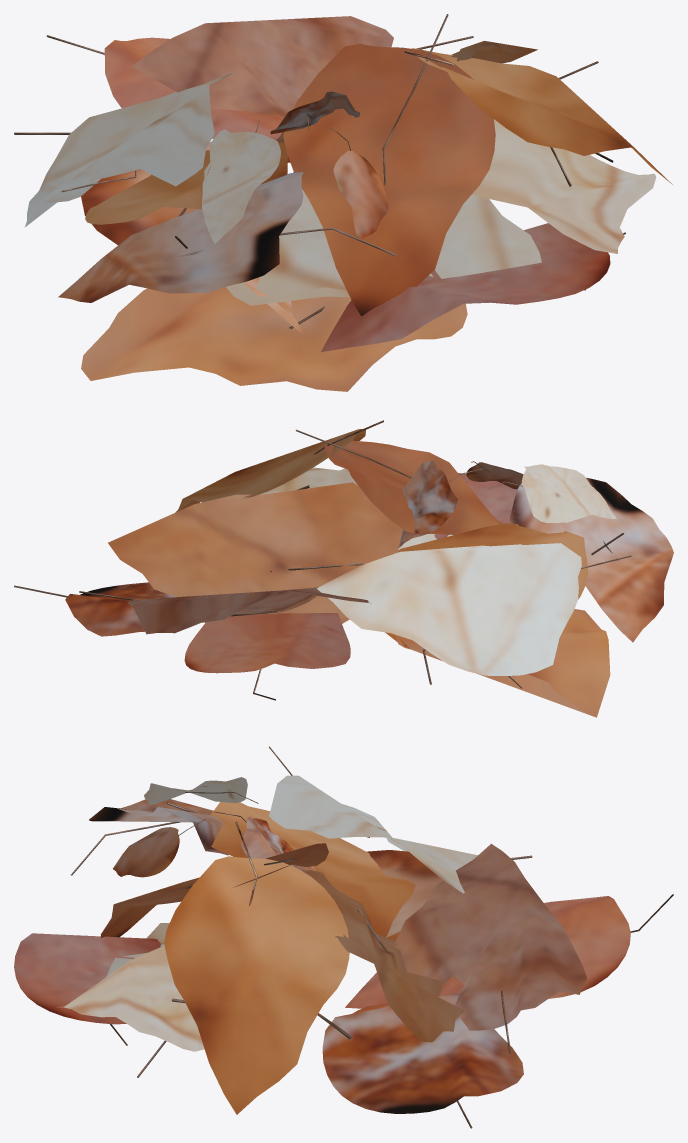
Rendered from deadplant.fbx.
The picture shows the model from 3 angles, top to bottom: view 1: azimuth 30°, elevation 25°; view 2: azimuth 150°, elevation 25°; view 3: azimuth 270°, elevation 25°; orthographic projection. The views are drawn at different scales.
Visible parts, largest first — view 1: Circle.006, Circle, Circle.003, Circle.008, Circle.010, Circle.011, Circle.018, Circle.004, Circle.007, Circle.014, Circle.009, Circle.005 (+4 smaller); view 2: Circle.010, Circle.001, Circle.008, Circle.009, Circle.006, Circle, Circle.003, Circle.014, Circle.007, Circle.013, Circle.005, Circle.016 (+3 smaller); view 3: Circle.007, Circle.003, Circle.013, Circle.011, Circle.005, Circle.018, Circle.001, Circle.010, Circle.009, Circle.006, Circle.008, Circle.002 (+3 smaller).
Boxes of the visible parts, x1,y1,x2,y2 form: Circle.006: (283, 43, 495, 316); Circle: (81, 287, 467, 391); Circle.003: (131, 16, 393, 119); Circle.008: (58, 172, 303, 302); Circle.010: (25, 72, 232, 226); Circle.011: (321, 223, 610, 351); Circle.018: (472, 119, 656, 253); Circle.004: (226, 189, 541, 305); Circle.007: (411, 48, 672, 184); Circle.014: (202, 129, 280, 244); Circle.009: (104, 37, 282, 139); Circle.005: (85, 142, 290, 224); Circle.010: (316, 543, 581, 675); Circle.001: (108, 482, 402, 623); Circle.008: (509, 477, 673, 642); Circle.009: (184, 613, 350, 673); Circle.006: (324, 440, 500, 534); Circle: (385, 609, 610, 717); Circle.003: (127, 587, 371, 634); Circle.014: (522, 464, 616, 522); Circle.007: (175, 429, 365, 512); Circle.013: (65, 582, 175, 636); Circle.005: (398, 523, 587, 599); Circle.016: (398, 460, 457, 547); Circle.007: (164, 856, 349, 1114); Circle.003: (395, 843, 586, 1030); Circle.013: (322, 993, 523, 1113); Circle.011: (14, 933, 161, 1024); Circle.005: (210, 802, 415, 940); Circle.018: (57, 946, 204, 1051); Circle.001: (303, 870, 463, 1042); Circle.010: (269, 775, 477, 893); Circle.009: (345, 896, 630, 1008); Circle.006: (100, 843, 328, 937); Circle.008: (89, 799, 228, 855); Circle.002: (367, 850, 442, 937).
Size of the model in its own units: 0.3117 by 0.3064 by 0.1264.
